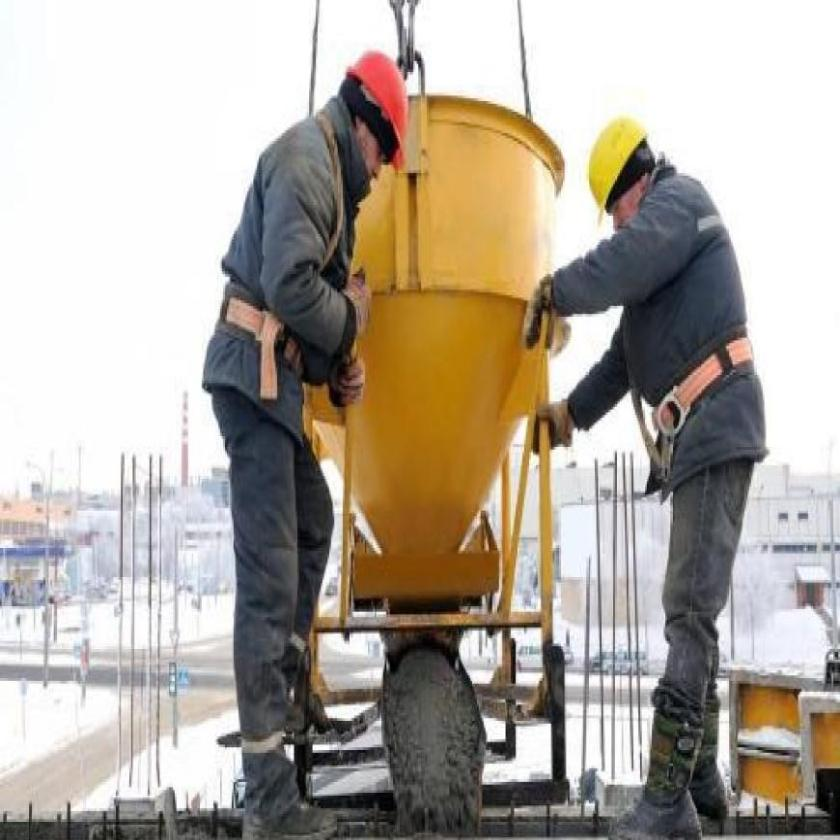Con_casco: (346, 39, 412, 206), (583, 114, 658, 245)
